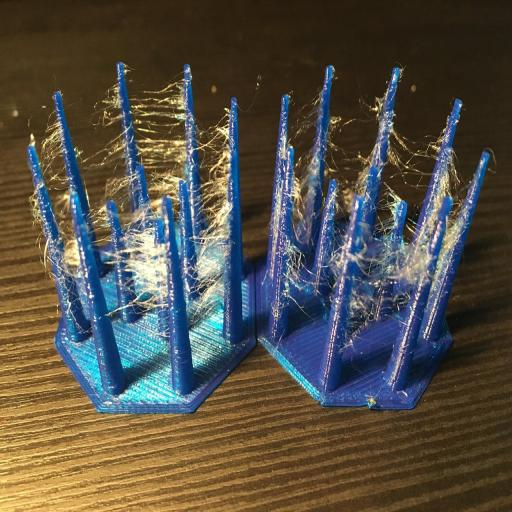stringing: (131, 77, 185, 206), (193, 182, 226, 338), (118, 225, 164, 332), (366, 208, 422, 295), (380, 121, 436, 207), (41, 123, 64, 228)
